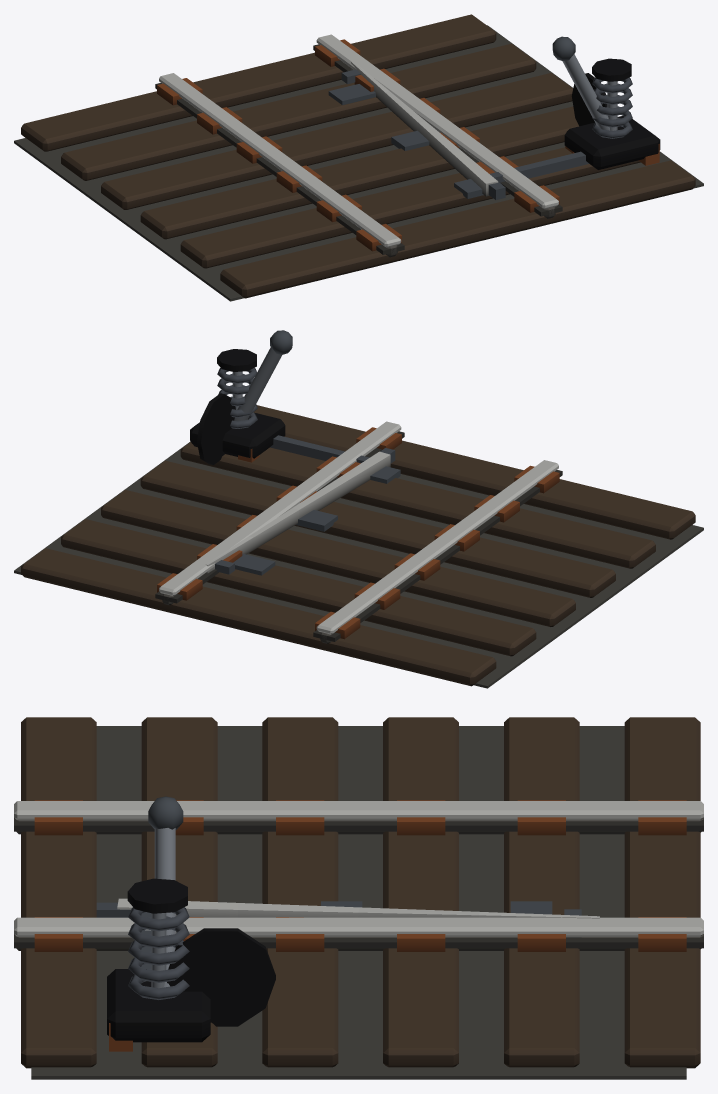
Rendered from catch-point.glb.
3 renders of one model, top to bottom at view 1: azimuth 30°, elevation 25°; view 2: azimuth 150°, elevation 25°; view 3: azimuth 270°, elevation 25°, orthographic. The views are drawn at different scales.
Parts seen in each view (by area): view 1: catch_point; view 2: catch_point; view 3: catch_point.
Boxes of the visible parts, <box> form: catch_point: <box>14,14,703,301</box>; catch_point: <box>14,330,703,688</box>; catch_point: <box>14,717,703,1079</box>.
Bounding box in the file's own units: 2.4 × 0.675 × 2.
